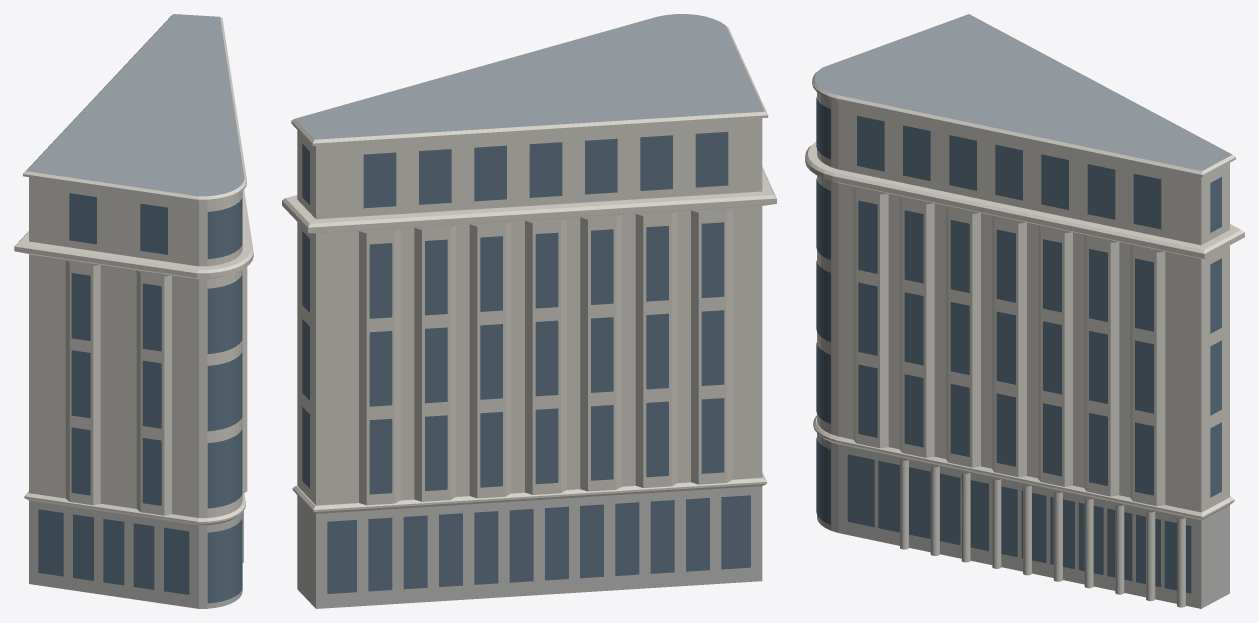
Rendered from atl-flatiron-building.glb.
3 views of the same model, side by side, from view 1: azimuth 30°, elevation 25°; view 2: azimuth 150°, elevation 25°; view 3: azimuth 270°, elevation 25° (orthographic). The views are drawn at different scales.
Parts seen in each view (by area): view 1: Flatiron Building; view 2: Flatiron Building; view 3: Flatiron Building.
Boxes of the visible parts, bbox=[...] form: Flatiron Building: bbox=[14, 14, 253, 608]; Flatiron Building: bbox=[282, 14, 776, 608]; Flatiron Building: bbox=[805, 14, 1244, 608].
Size of the model in its own units: 37.4 by 45.5 by 41.33.
